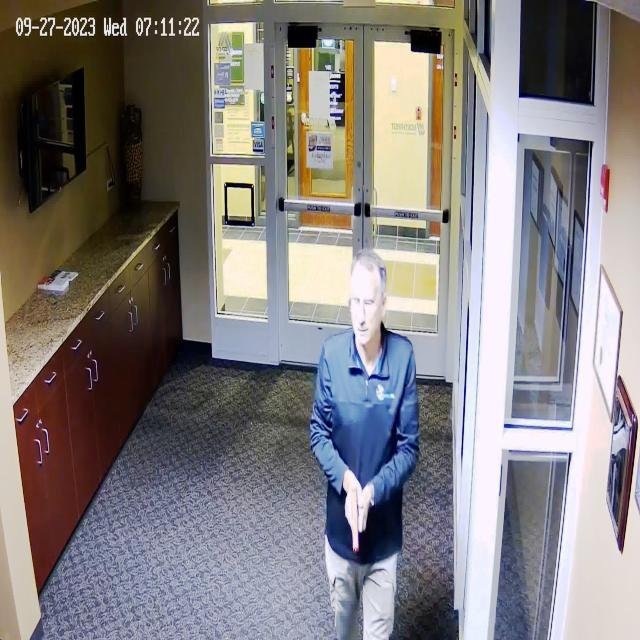Gun: (336, 480, 391, 559)
